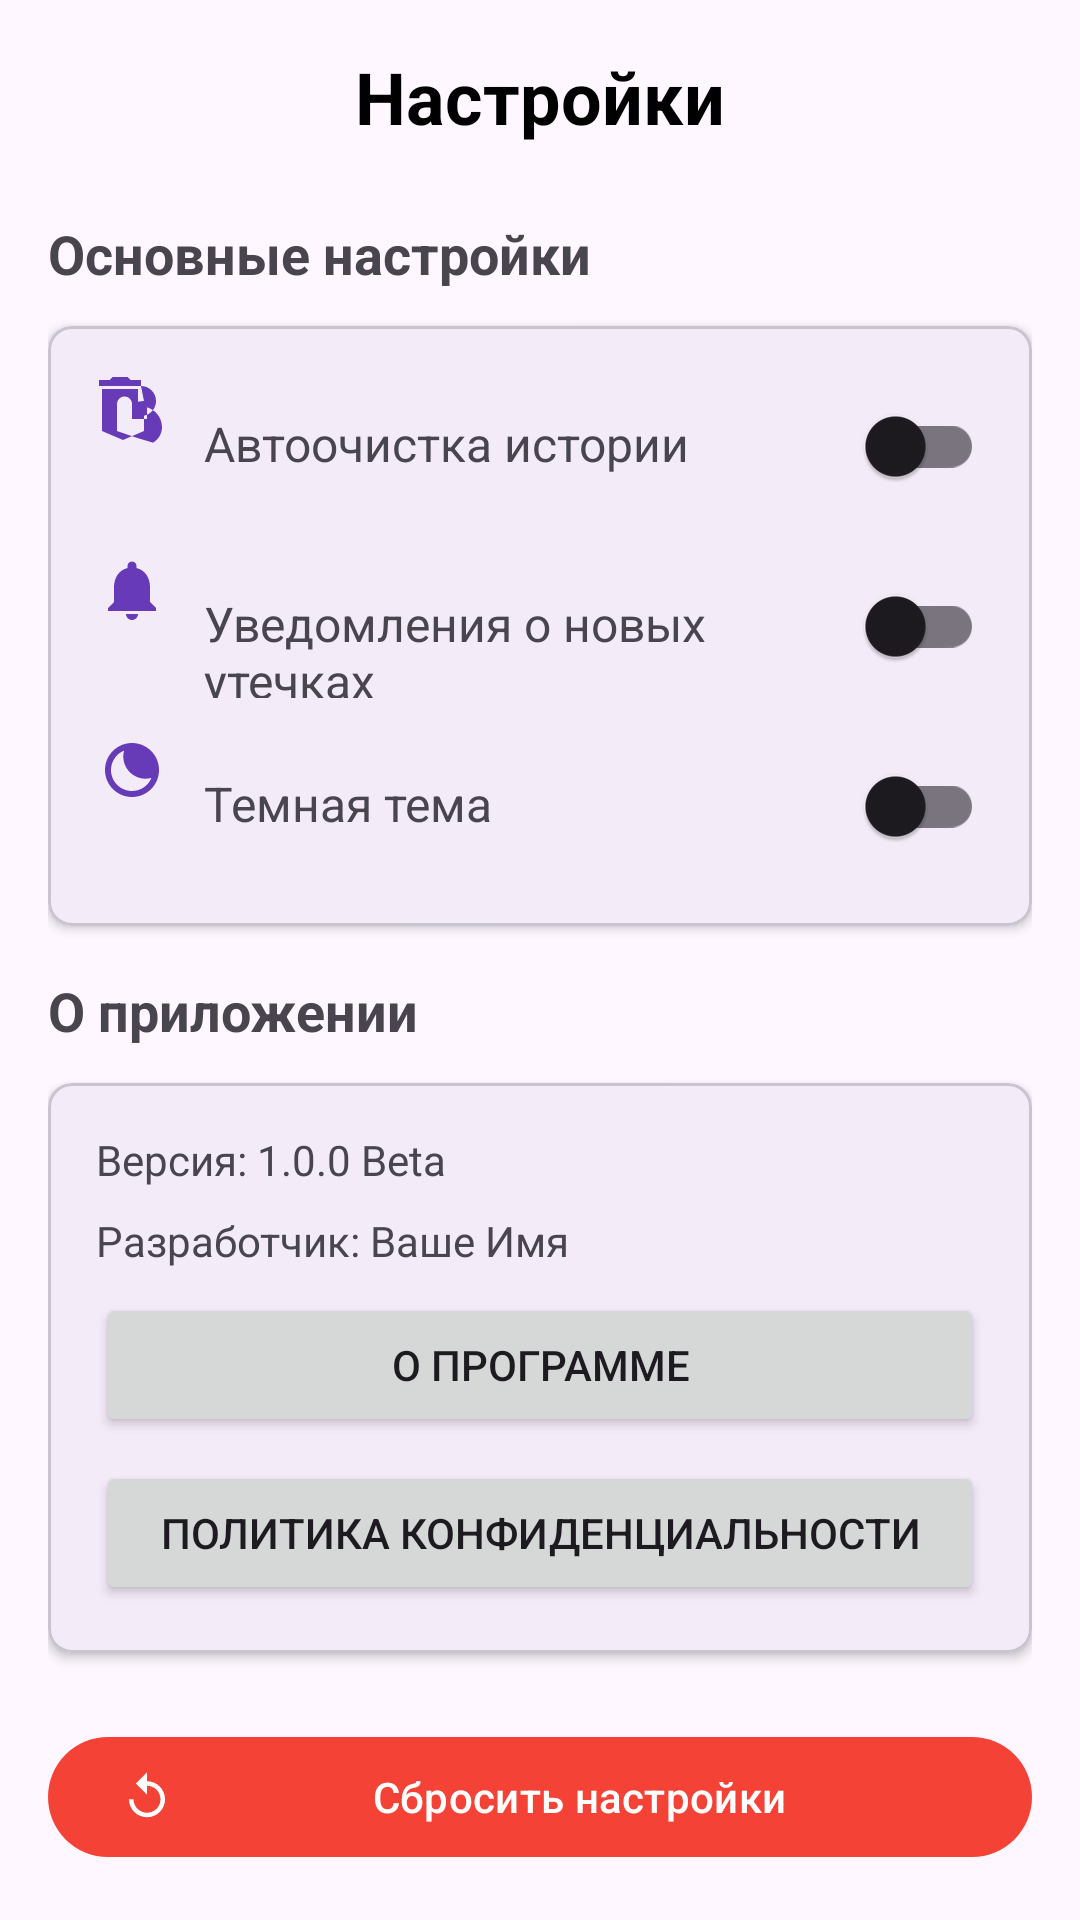

Where icons sit on this 1080*1920 app screen, as (x1, y1, x2, y2):
auto delete: (99, 377, 162, 443)
mode: (105, 743, 159, 797)
notifications: (108, 561, 156, 620)
